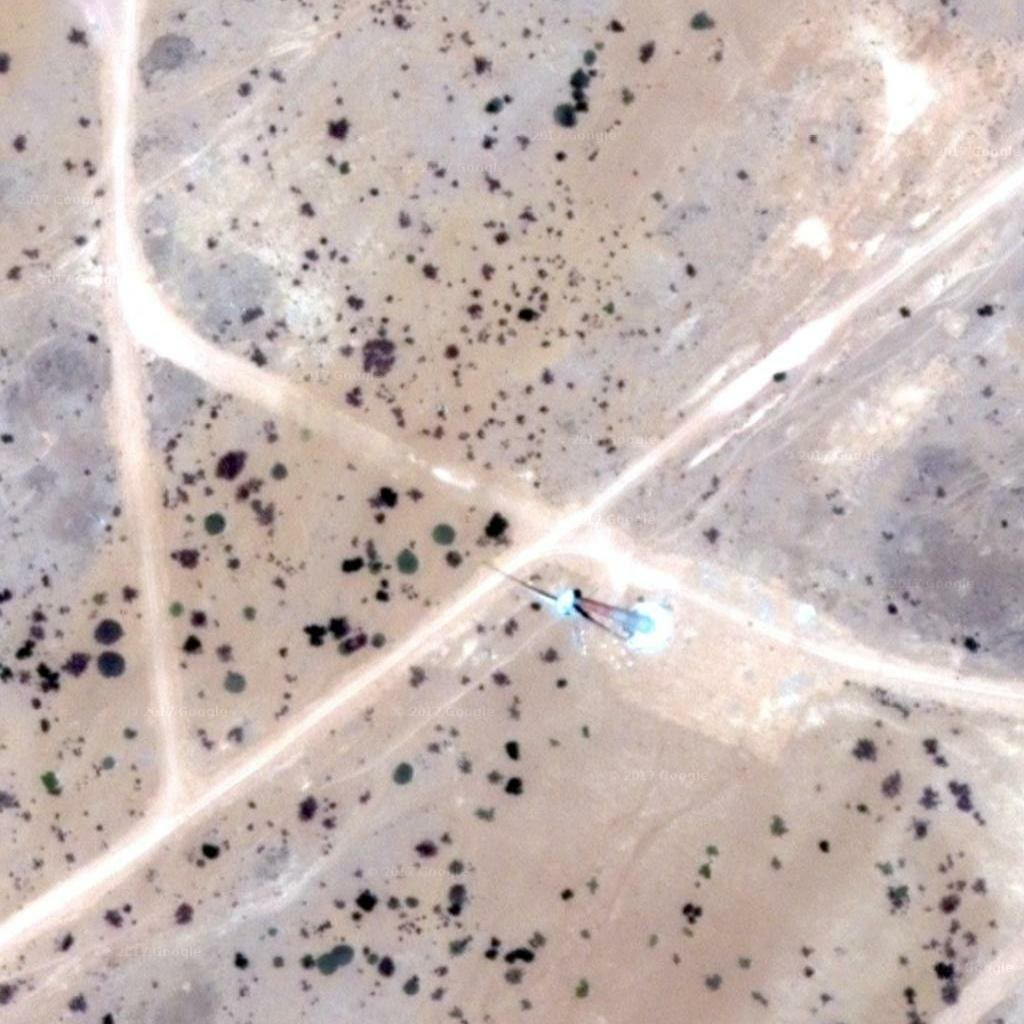Windmill: (480, 542, 633, 620)
